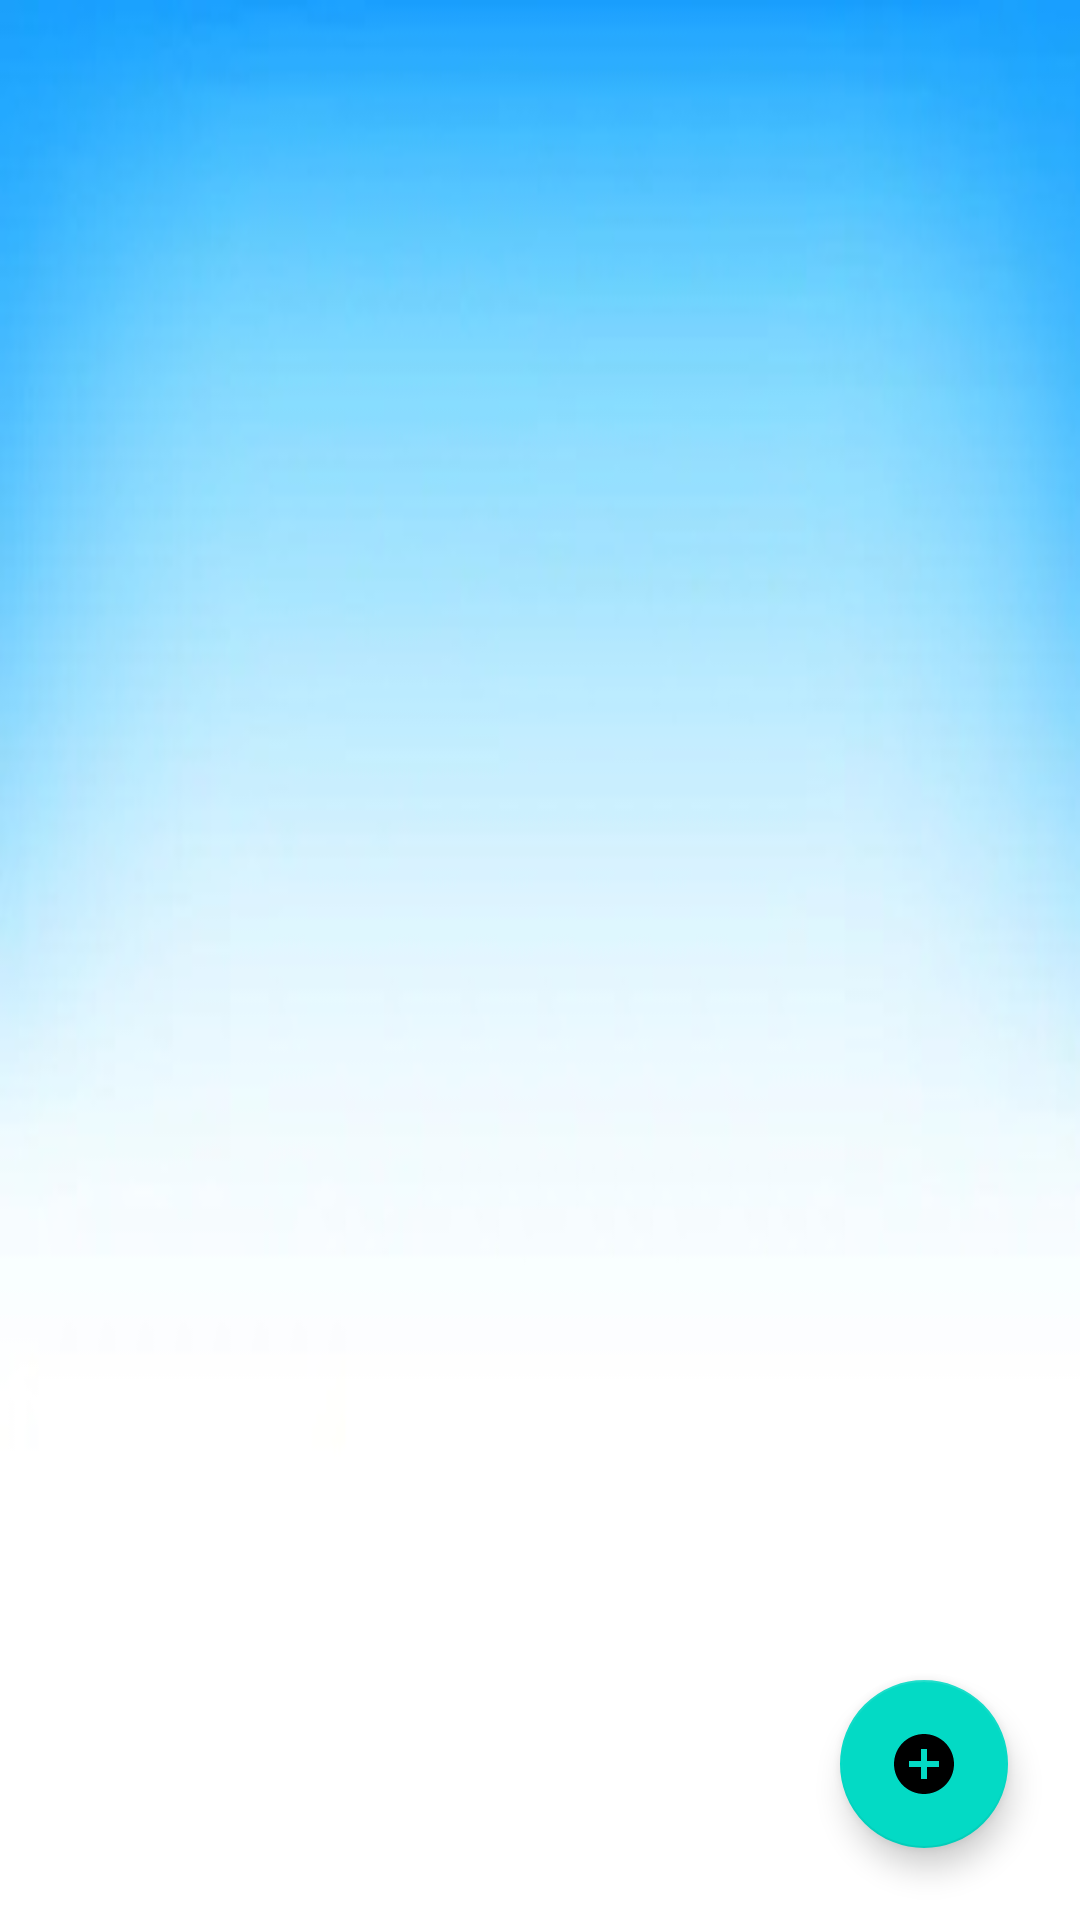

Screen size 1080×1920. Icon name, then its box in pixels as (x1, y1, x2, y2):
add circle: (840, 1680, 1008, 1848)
